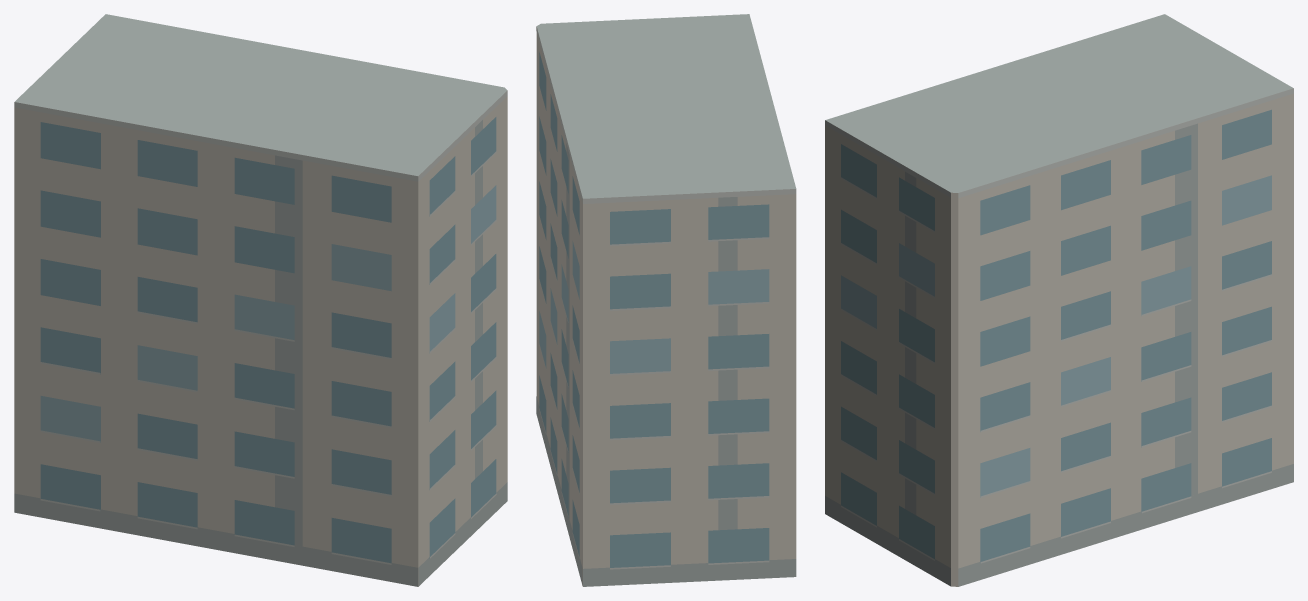
The model's file is survey-upis-32599228.glb.
3 views of the same model, side by side, from view 1: azimuth 30°, elevation 25°; view 2: azimuth 150°, elevation 25°; view 3: azimuth 270°, elevation 25° (orthographic). The views are drawn at different scales.
Parts seen in each view (by area): view 1: survey-upis-32599228.tmp; view 2: survey-upis-32599228.tmp; view 3: survey-upis-32599228.tmp.
Part boxes in pixels (box(x1,y1,x2,y2)): survey-upis-32599228.tmp: box(14, 14, 507, 586); survey-upis-32599228.tmp: box(536, 14, 796, 586); survey-upis-32599228.tmp: box(825, 14, 1293, 586).
Bounding box in the file's own units: 17.61 × 18.05 × 19.48.
